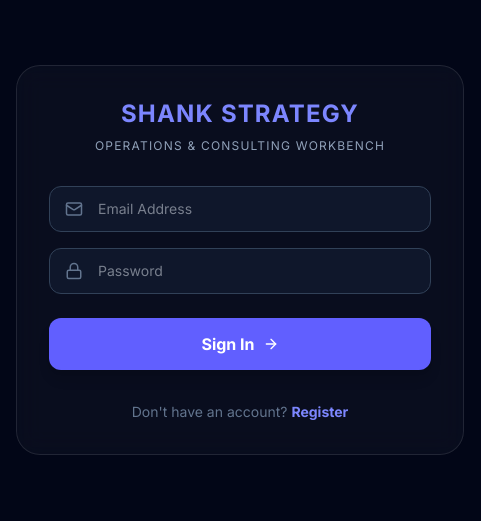
Test: Auth Component › toggles to Create Account layout when Register is clicked
The width and height of the screenshot is (481, 521).
Click the button "Register": (320,412) [291,402,348,422]
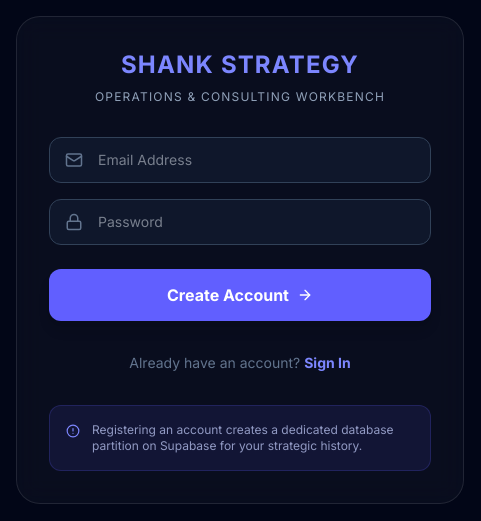
Result: the button "Create Account" is shown at [49,269,431,321]
Click the button "Sign In": (327,363) [304,353,351,373]
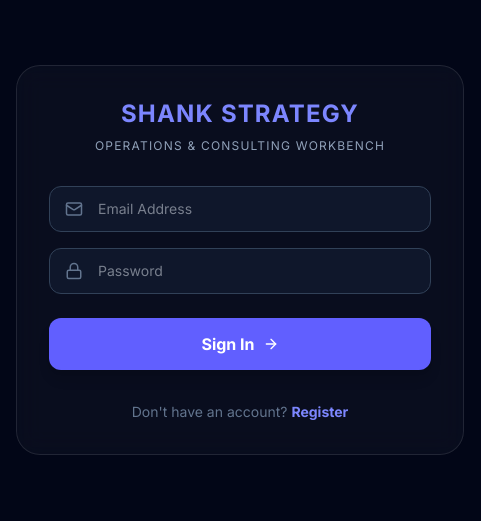
Result: the button "Sign In" is shown at [49,318,431,370]
